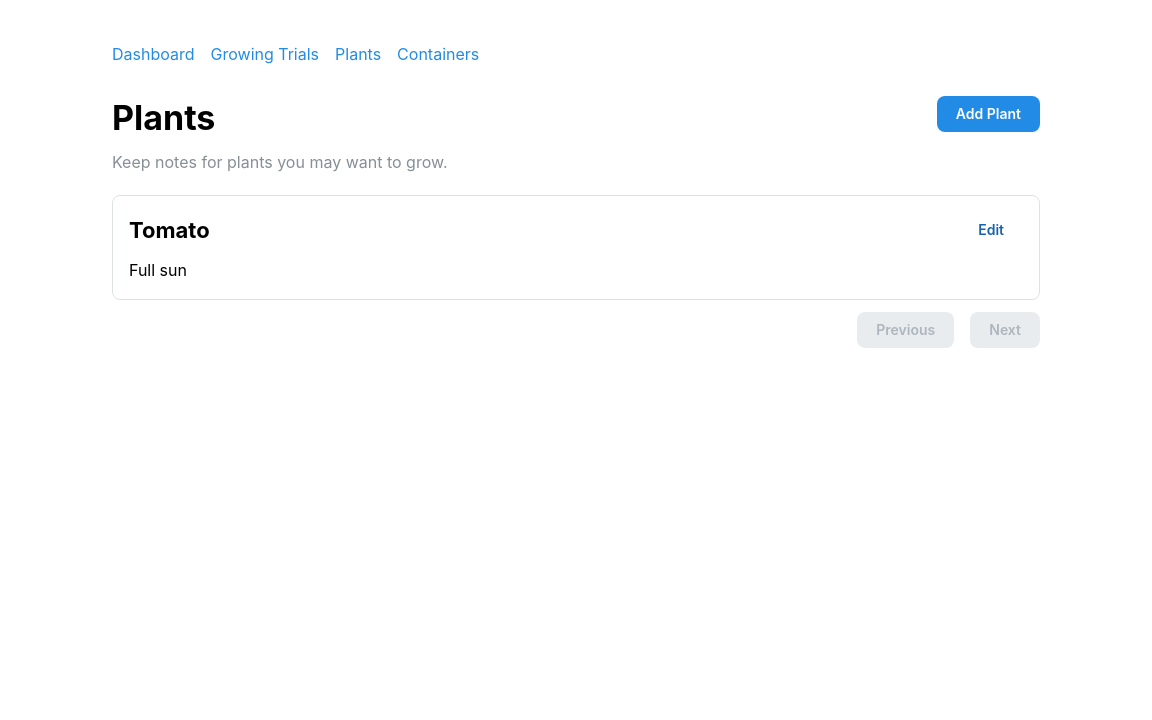
PlantsPage › edits a Plant and shows the updated values in the list
Expected: the heading "Tomato" is shown, [129, 215, 210, 245]
Click the button with aria-label "Edit Tomato": (991, 230) [959, 212, 1023, 248]
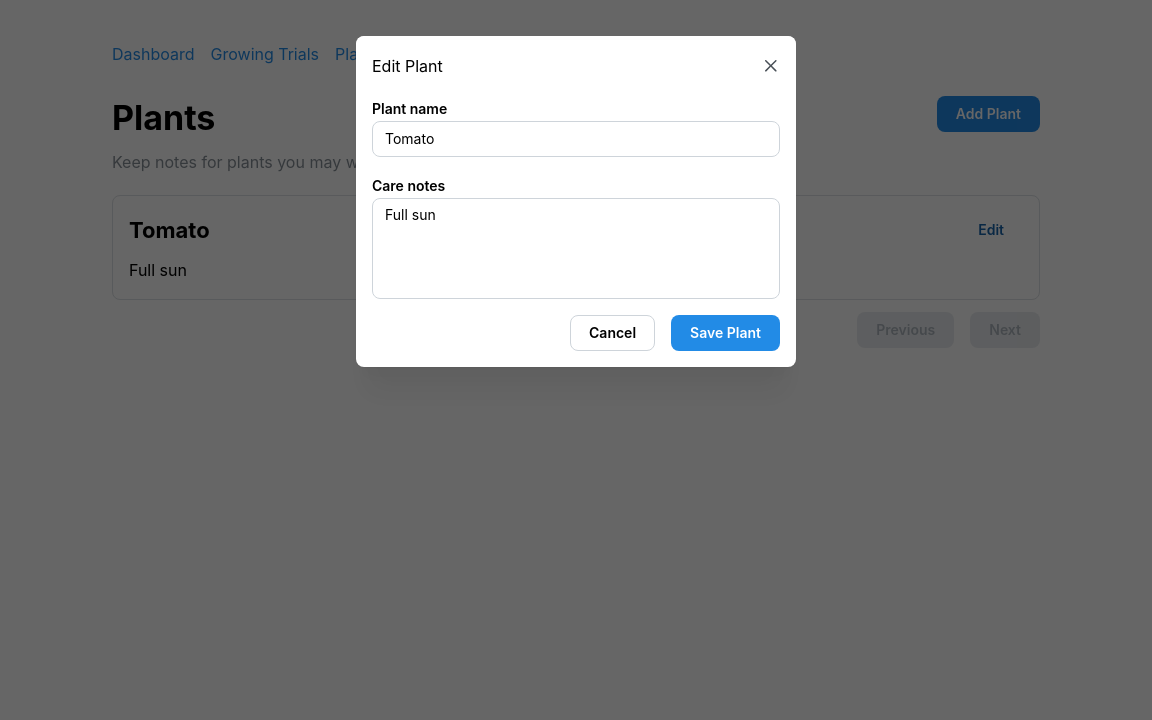
Replace the text in the field labelled "Plant name" with "Cherry Tomato": (576, 139) [372, 121, 780, 157]
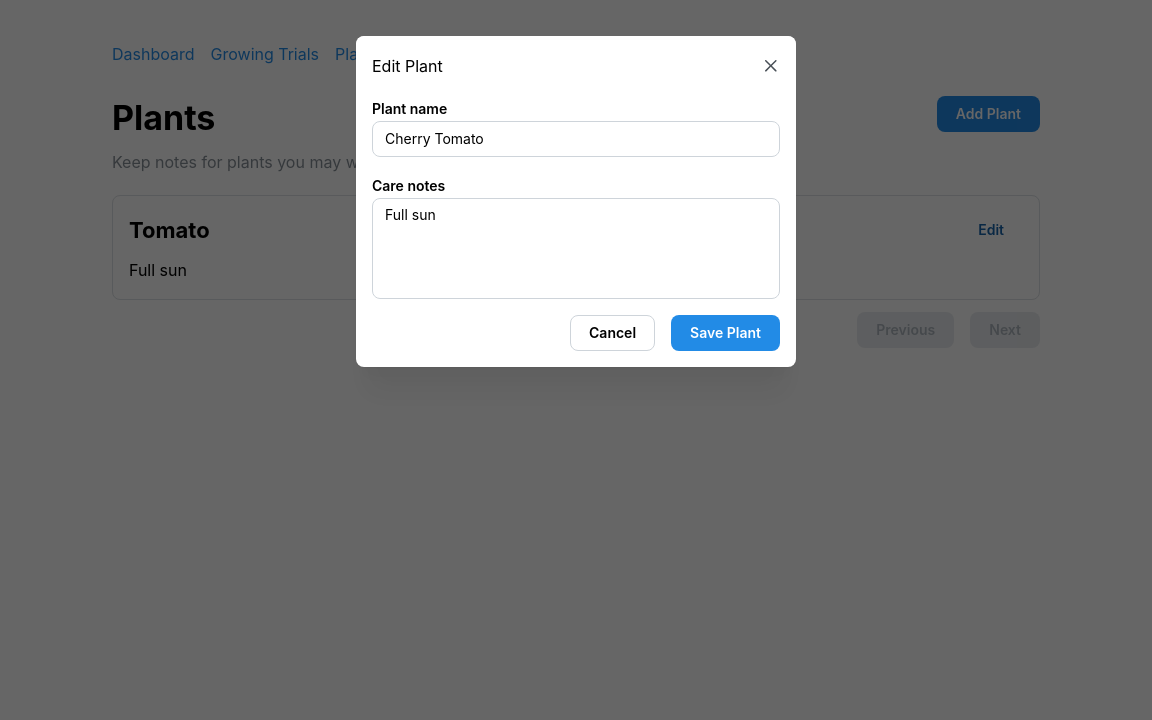
Replace the text in the text box labelled "Care notes" with "Water deeply": (576, 248) [372, 198, 780, 299]
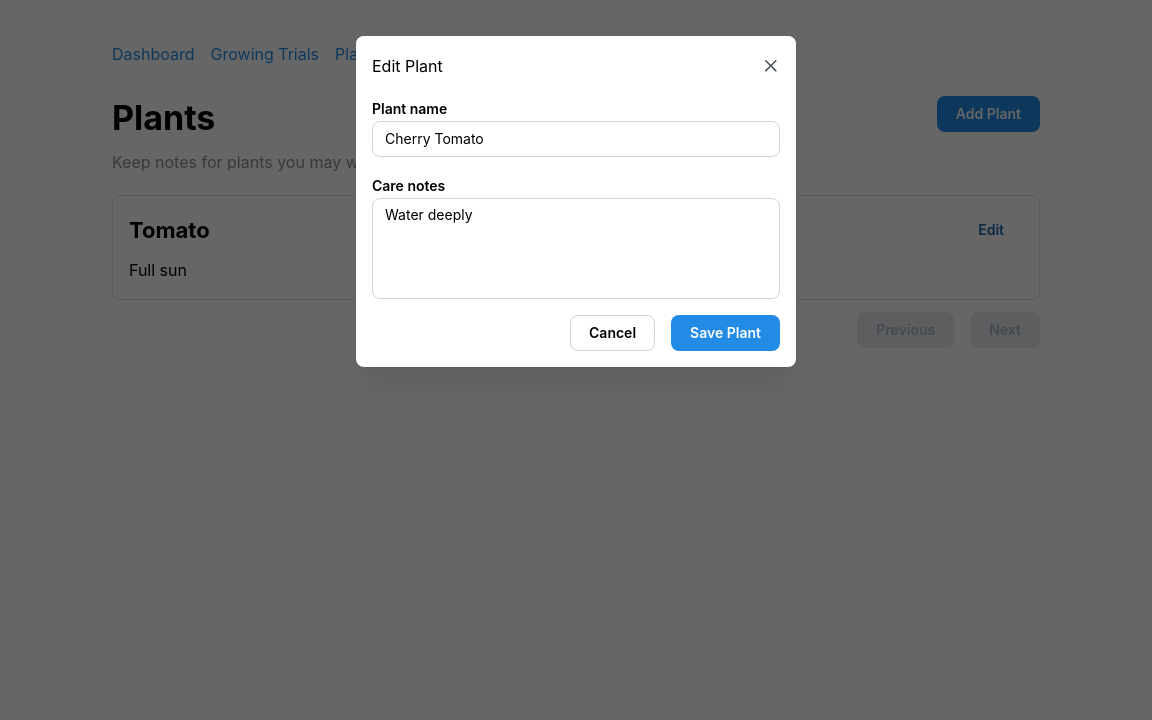
Click the button "Save Plant": (726, 333) [671, 315, 780, 351]
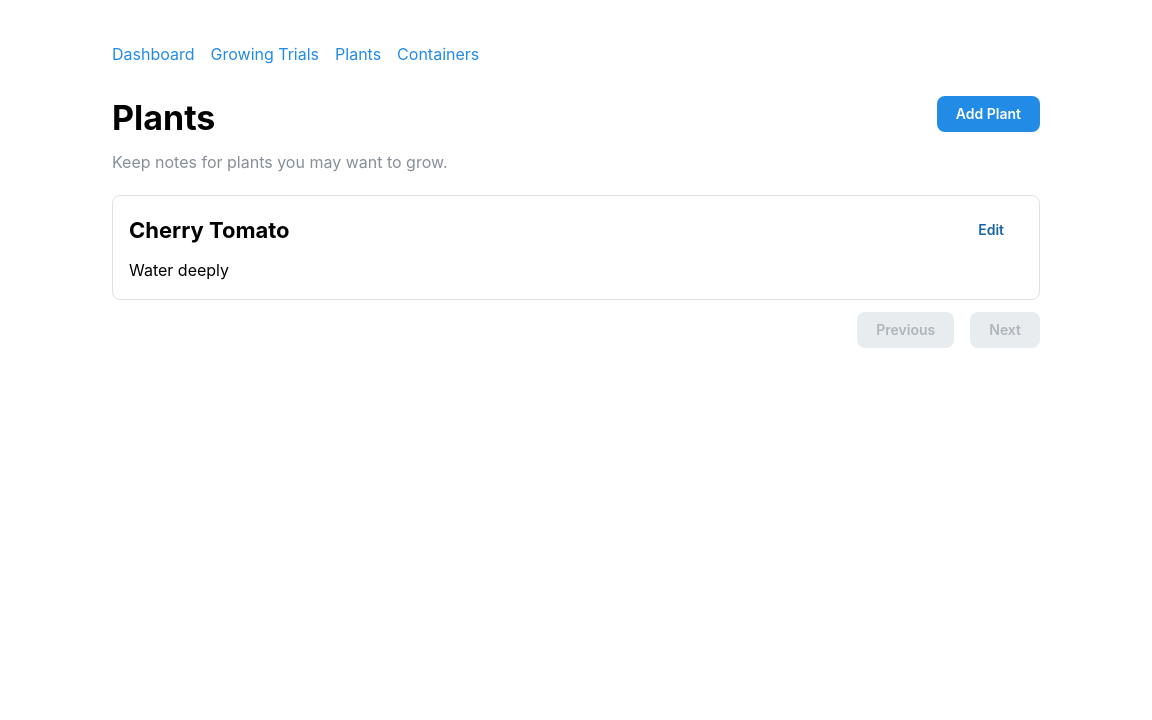
Expected: the heading "Cherry Tomato" is shown, [129, 215, 290, 245]
Expected: the text "Water deeply" is shown, [129, 260, 229, 280]
